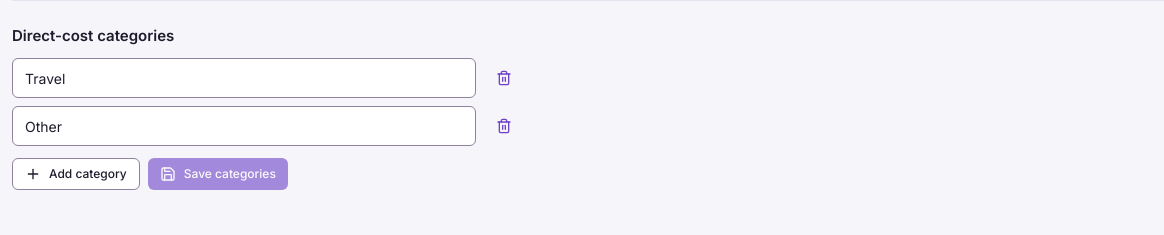
keeps pending edits and exposes a save error
Replace the text in the field showing "Travel" with "Software" at (244, 78), box [12,58,476,98]
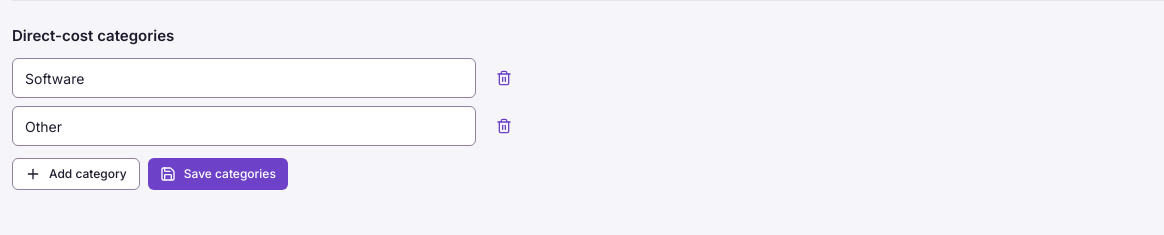
Click the button "Save categories" at (218, 174), box [148,158,288,190]
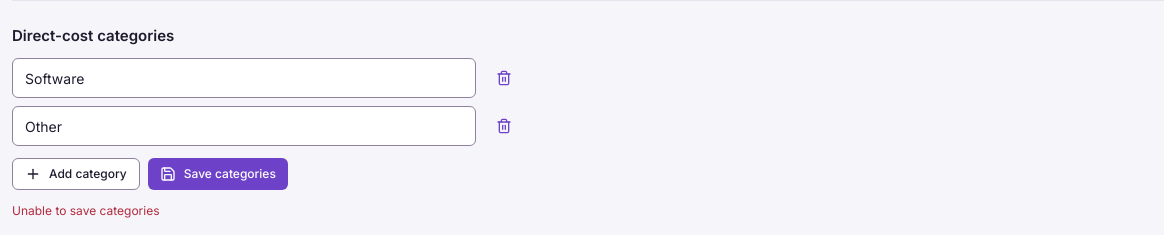
Check: the message reads "Unable to save categories", box [12,203,160,218]
